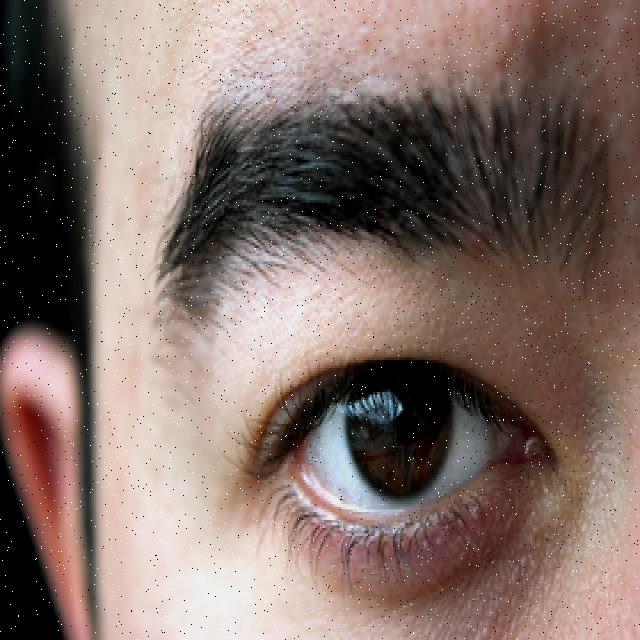Normal: (117, 246, 638, 637)
